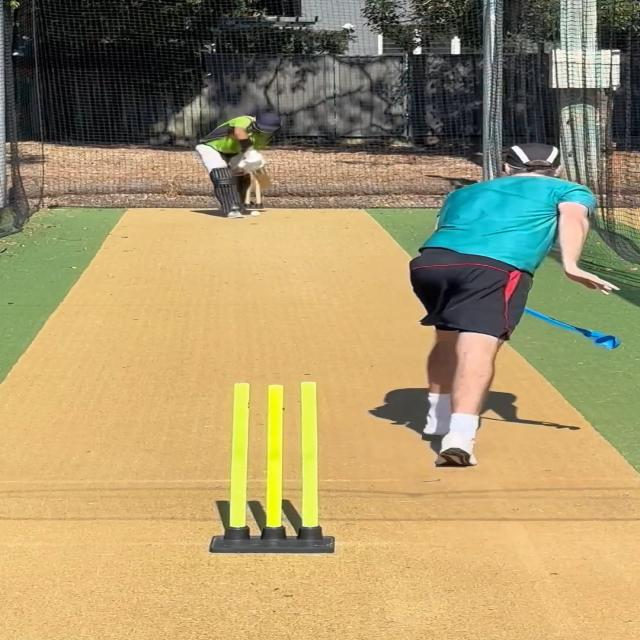stump: (220, 379, 326, 557)
